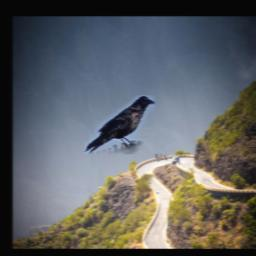Crow: (84, 96, 154, 155)
